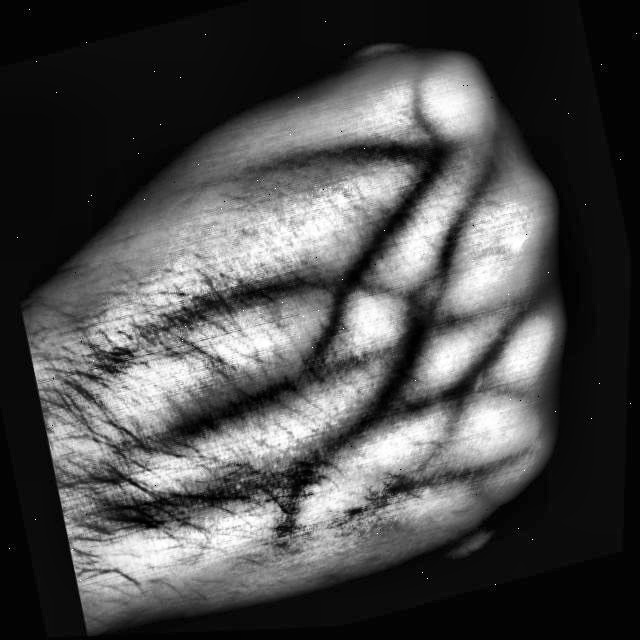Vein: (100, 368, 295, 476)
